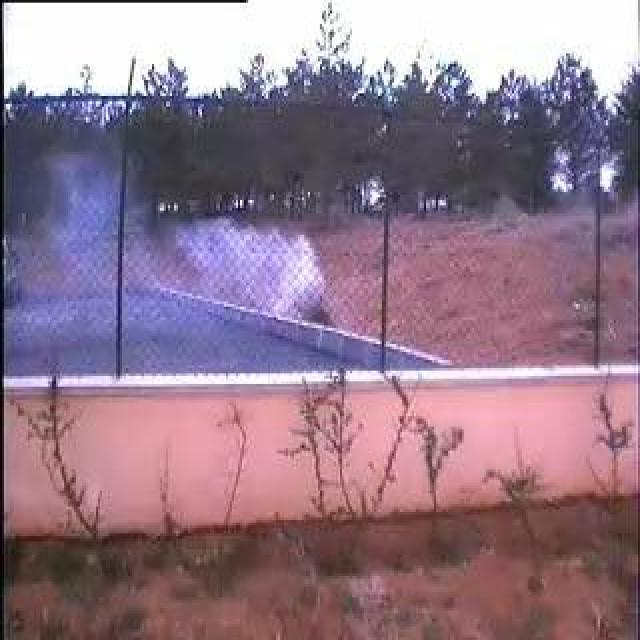Smoke: (61, 145, 327, 364)
